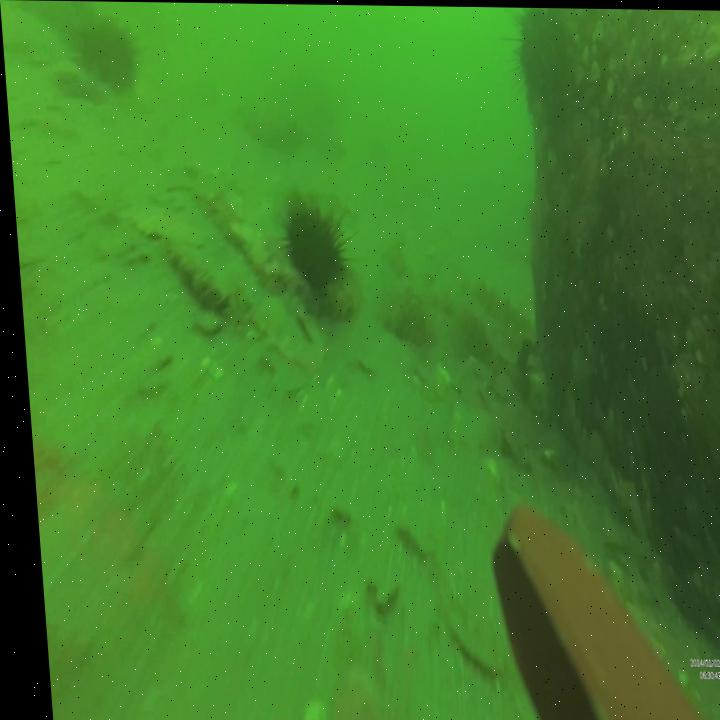echinus: (273, 192, 357, 297), (501, 10, 578, 122), (75, 12, 148, 97)
